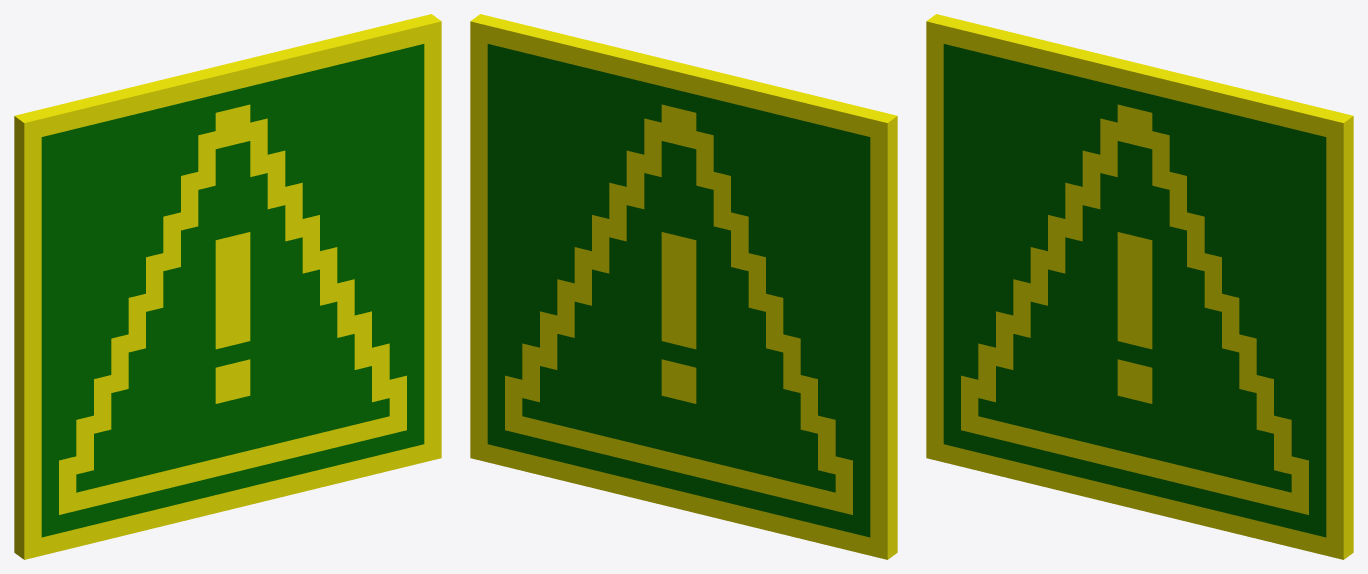
File: placaperigro1-1.obj
3 renders of one model, left to right at view 1: azimuth 30°, elevation 25°; view 2: azimuth 150°, elevation 25°; view 3: azimuth 330°, elevation 25°, orthographic.
Size of the model in its own units: 2.4 by 2.4 by 0.1.
1 material, 1 textured.
